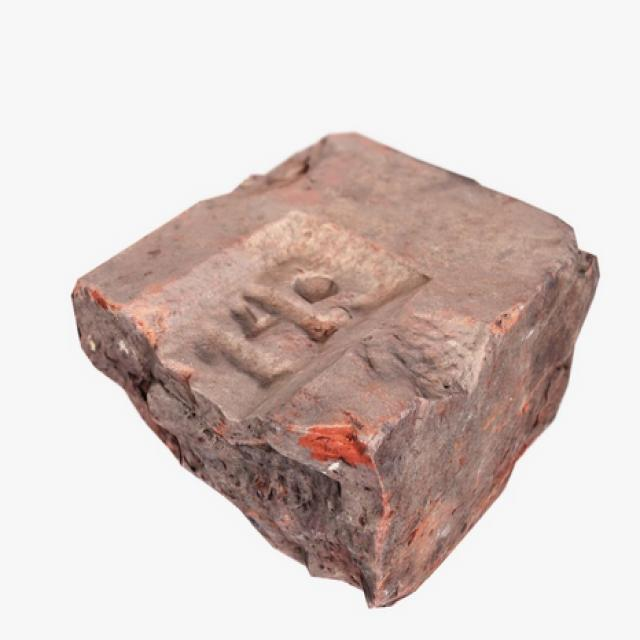bricks_ruin: (69, 132, 598, 605)
